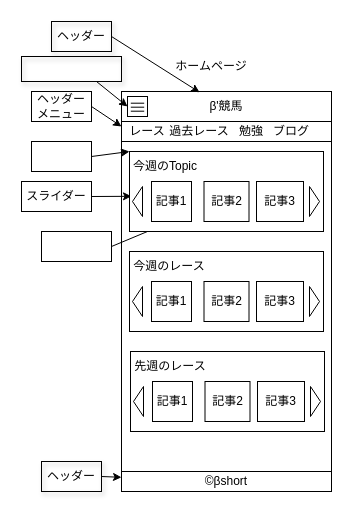
Some shapes in this 349 by 516 pixel diagram are drawn without their labels. Here are the shapes that lost their labels. From the top down, the centre of each, then its label:
(x=72, y=70): サイドバーボタン
(x=61, y=156): Topic
(x=76, y=246): カード
